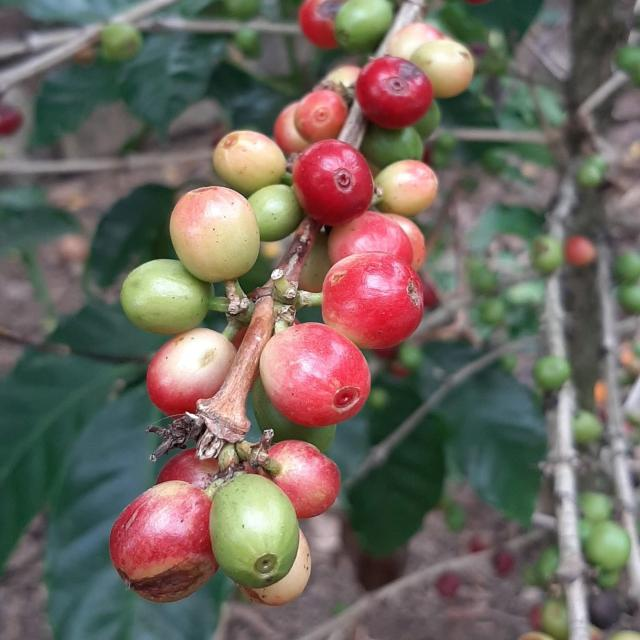green: (209, 474, 299, 589), (120, 259, 213, 335), (248, 184, 303, 241), (335, 0, 394, 52), (361, 122, 424, 169), (415, 99, 441, 139)
red: (109, 481, 218, 604), (322, 252, 424, 349), (292, 139, 374, 226), (356, 55, 434, 129), (156, 449, 218, 490)
yellow: (259, 323, 371, 427), (169, 186, 260, 282), (146, 328, 236, 416), (237, 531, 312, 608), (269, 441, 341, 520), (298, 0, 394, 52), (213, 130, 286, 195), (328, 211, 413, 264), (411, 38, 475, 97), (375, 159, 439, 216), (295, 89, 348, 142), (387, 21, 446, 60), (274, 100, 311, 154)
